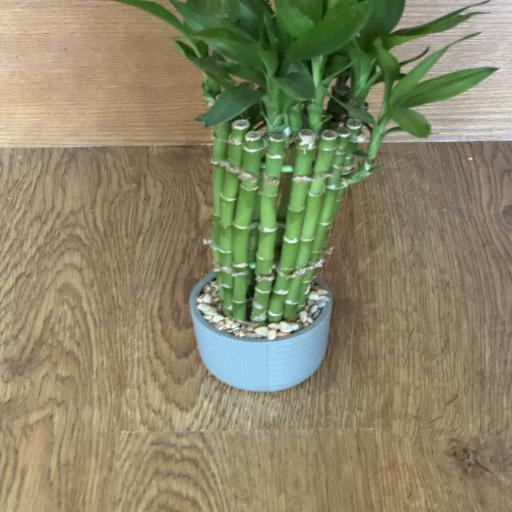Plant Pot: (188, 264, 332, 393)
